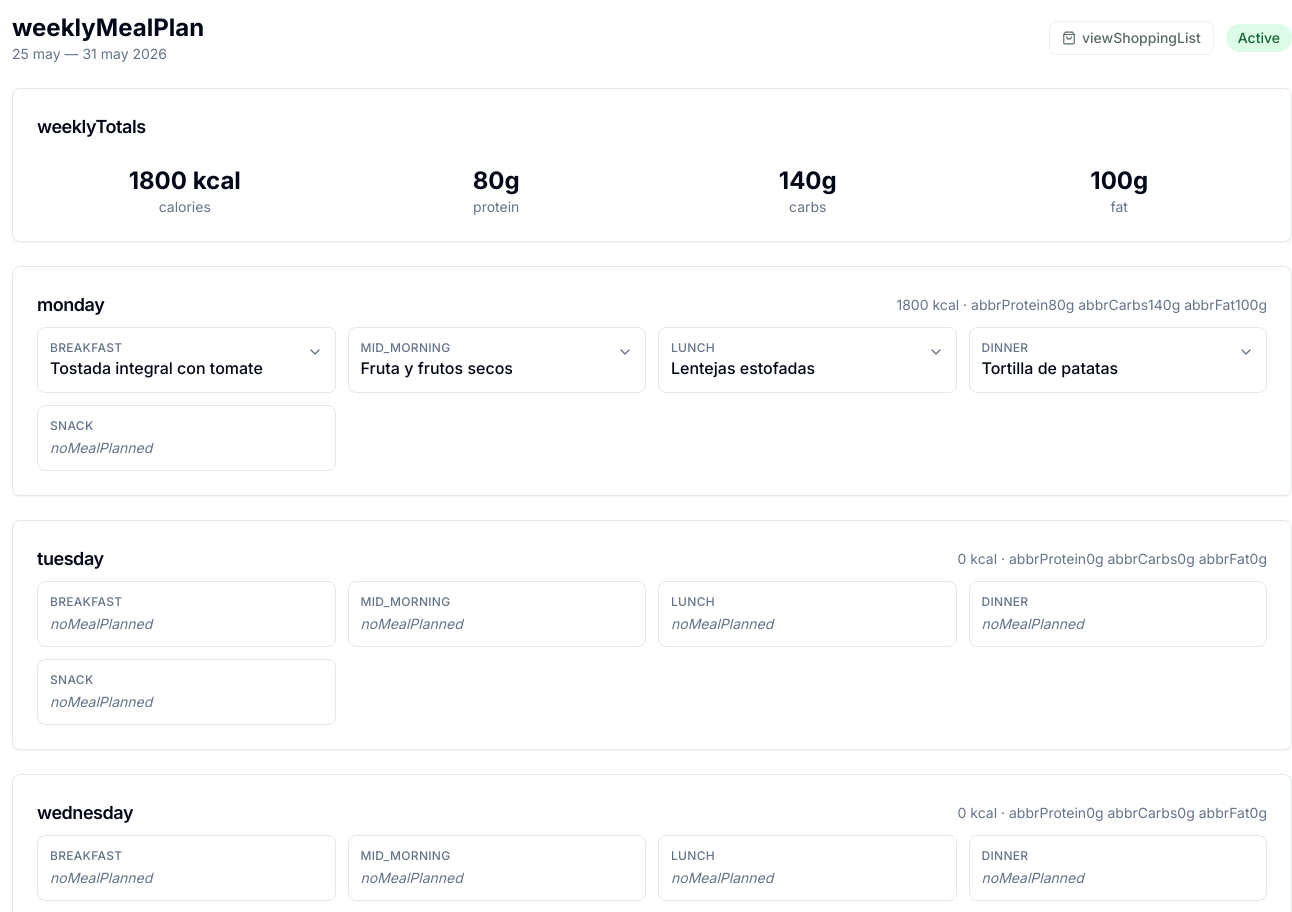
Test case: MealPlanView — collapsible meal cards › renders a complete day with 4 seed-data meals (breakfast, mid_morning, lunch, dinner)
Expected: the text "Tostada integral con tomate" is shown, [50,358,263,378]
Expected: the text "Fruta y frutos secos" is shown, [360,358,513,378]
# Expand the dinner card
Click the button "dinner Tortilla de patatas". click: (1118, 360)
box: [970,328,1266,392]
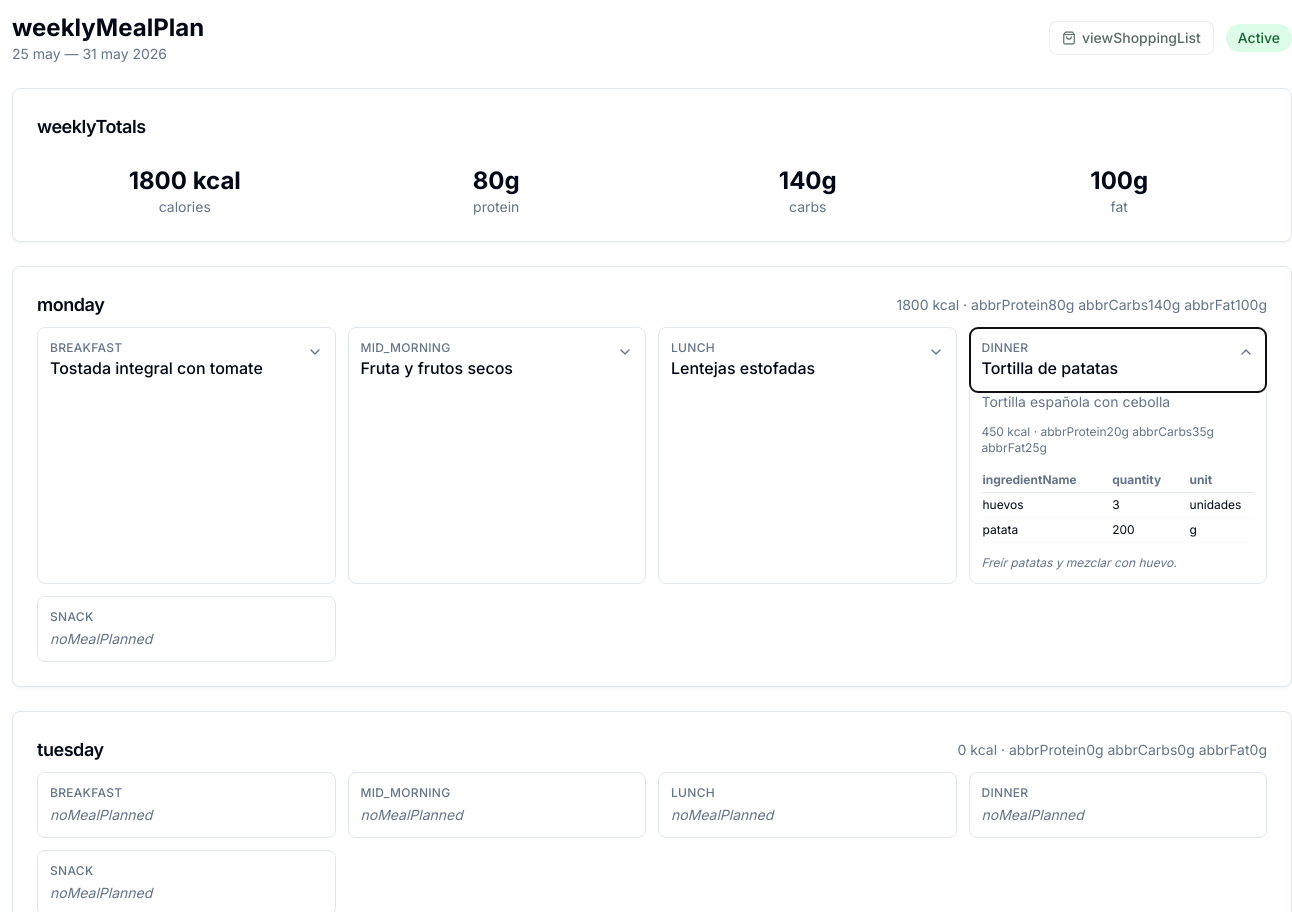
Expected: the text "huevos" is shown, [982,492,1104,518]
Expected: the text "3" is shown, [1104,492,1182,518]
Expected: the text "unidades" is shown, [1182,492,1254,518]
